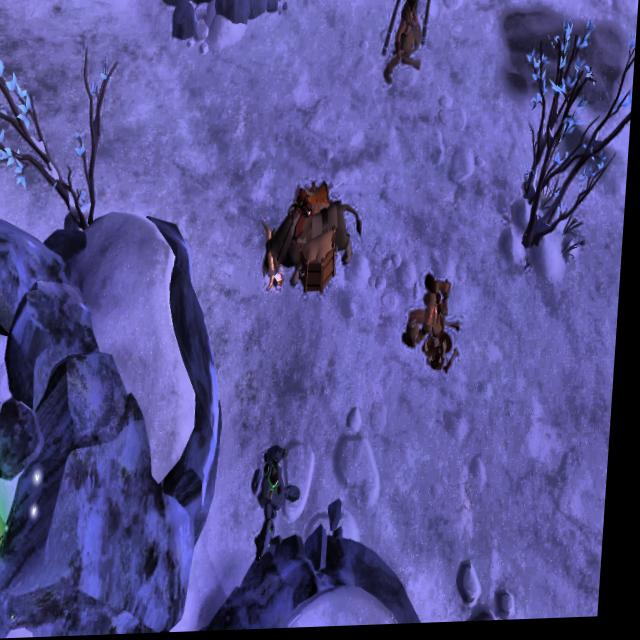enemy_factionKeeper: (406, 273, 455, 356), (384, 0, 429, 89)
